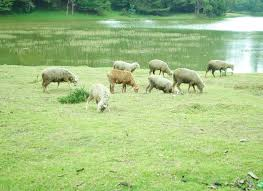sheep: (173, 66, 205, 102), (34, 67, 79, 91), (104, 69, 141, 94), (86, 82, 111, 114), (144, 73, 175, 98), (207, 59, 235, 76), (148, 58, 174, 75), (112, 60, 142, 74)
